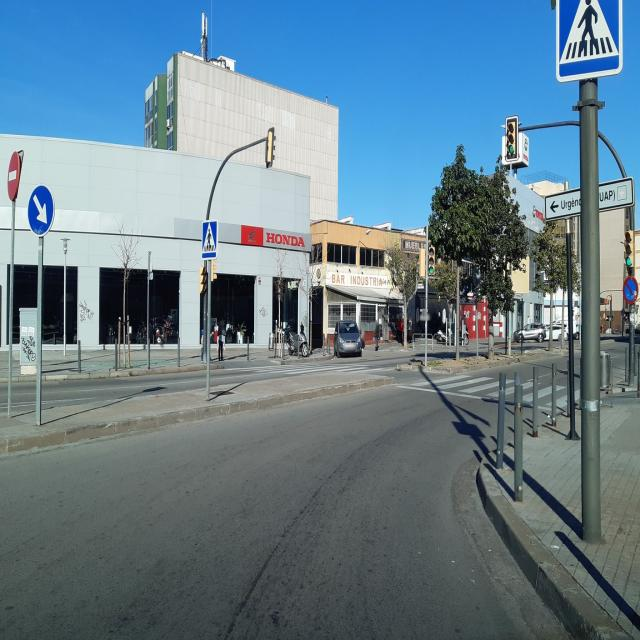forb_stopping: (622, 275, 638, 307)
